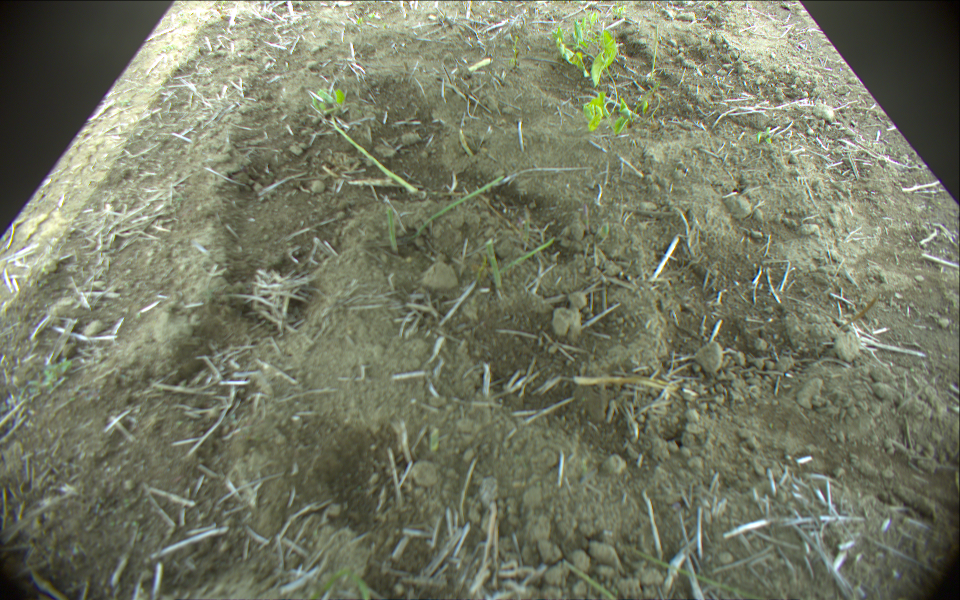aspa: (615, 542, 772, 599), (326, 111, 420, 194), (412, 176, 507, 237), (562, 559, 617, 598), (497, 235, 554, 272), (483, 239, 508, 296), (388, 205, 397, 261)
